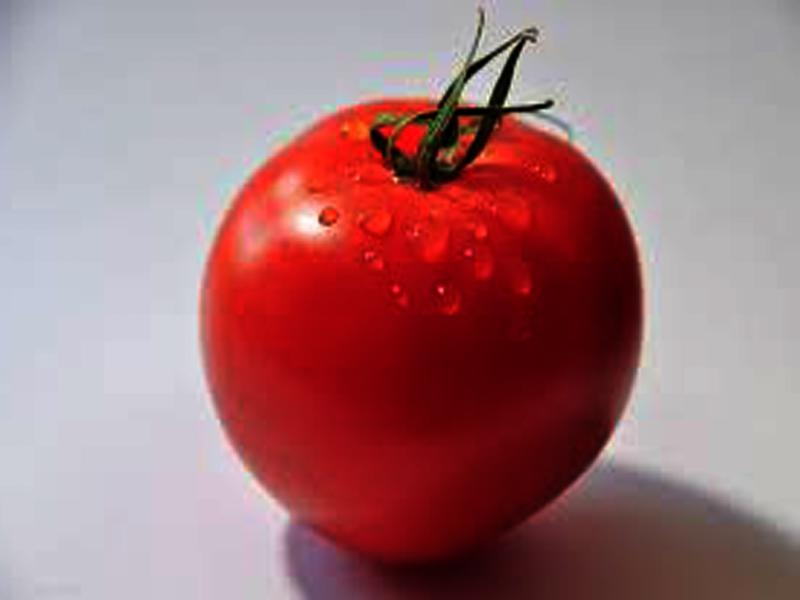Tomato: (199, 105, 640, 564)
